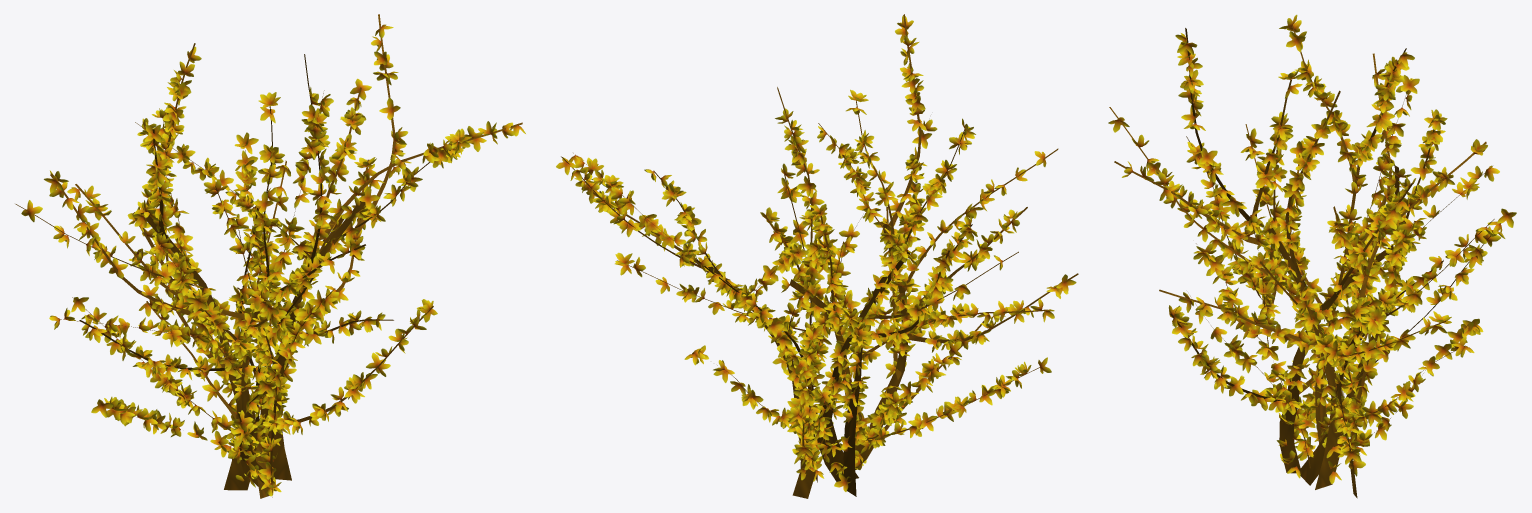
The model's file is bush1.glb.
The picture shows the model from 3 angles, left to right: view 1: azimuth 30°, elevation 25°; view 2: azimuth 150°, elevation 25°; view 3: azimuth 270°, elevation 25°; orthographic projection. The views are drawn at different scales.
Visible parts, largest first — view 1: Forsythia; view 2: Forsythia; view 3: Forsythia.
Boxes of the visible parts, bbox=[...] form: Forsythia: bbox=[15, 14, 525, 498]; Forsythia: bbox=[556, 14, 1078, 498]; Forsythia: bbox=[1108, 14, 1516, 498].
Bounding box in the file's own units: 0.2137 × 0.1887 × 0.1534.
Materials: 1 (1 with a texture image).
